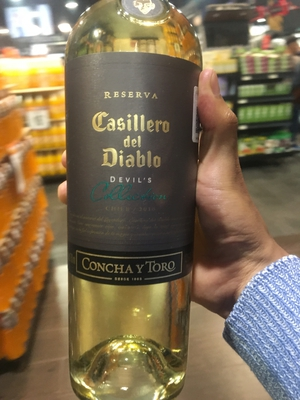casillero del diablo devils collection verde: (54, 16, 201, 392)
